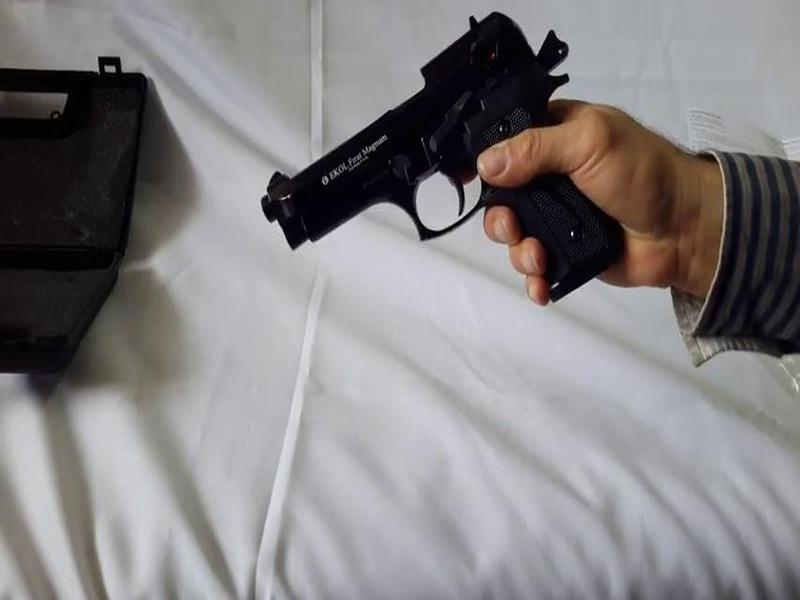Pistola: (227, 14, 621, 334)
